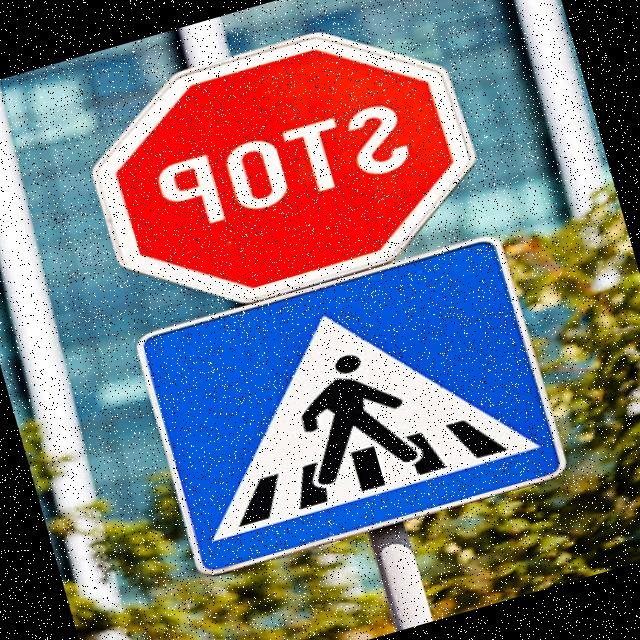crosswalk: (88, 208, 597, 600)
